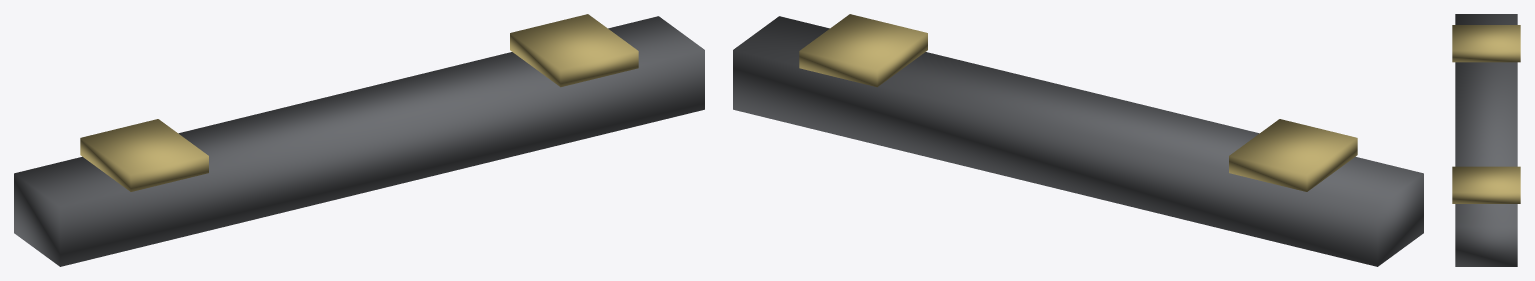
Rendered from wheel_stop_01.glb.
3 views of the same model, side by side, from view 1: azimuth 30°, elevation 25°; view 2: azimuth 150°, elevation 25°; view 3: azimuth 270°, elevation 25° (orthographic). The views are drawn at different scales.
Visible parts, largest first — view 1: world; view 2: world; view 3: world.
Part boxes in pixels (x1,y1,x2,y2): world: [14, 14, 704, 266]; world: [733, 14, 1423, 266]; world: [1452, 14, 1520, 266].
Bounding box in the file's own units: 1.45 × 0.1656 × 0.198.
